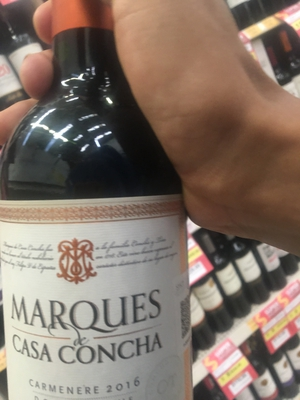marques de casa concha carmenere: (2, 47, 196, 396)
